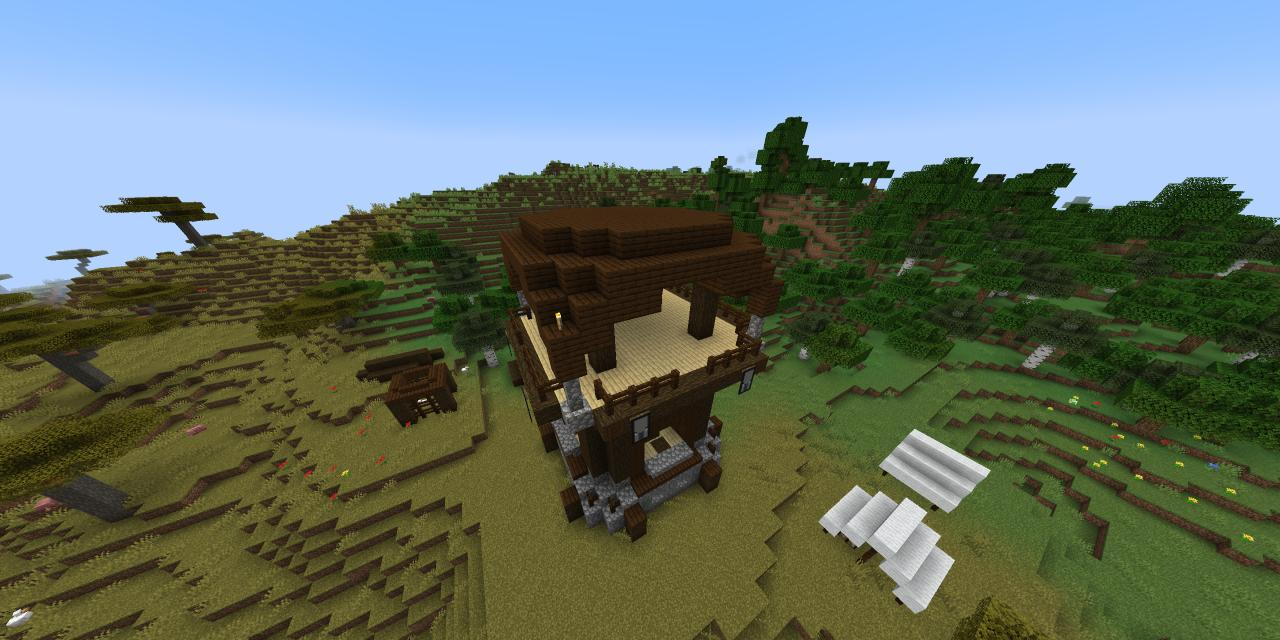pillager outpost: (489, 196, 794, 558)
